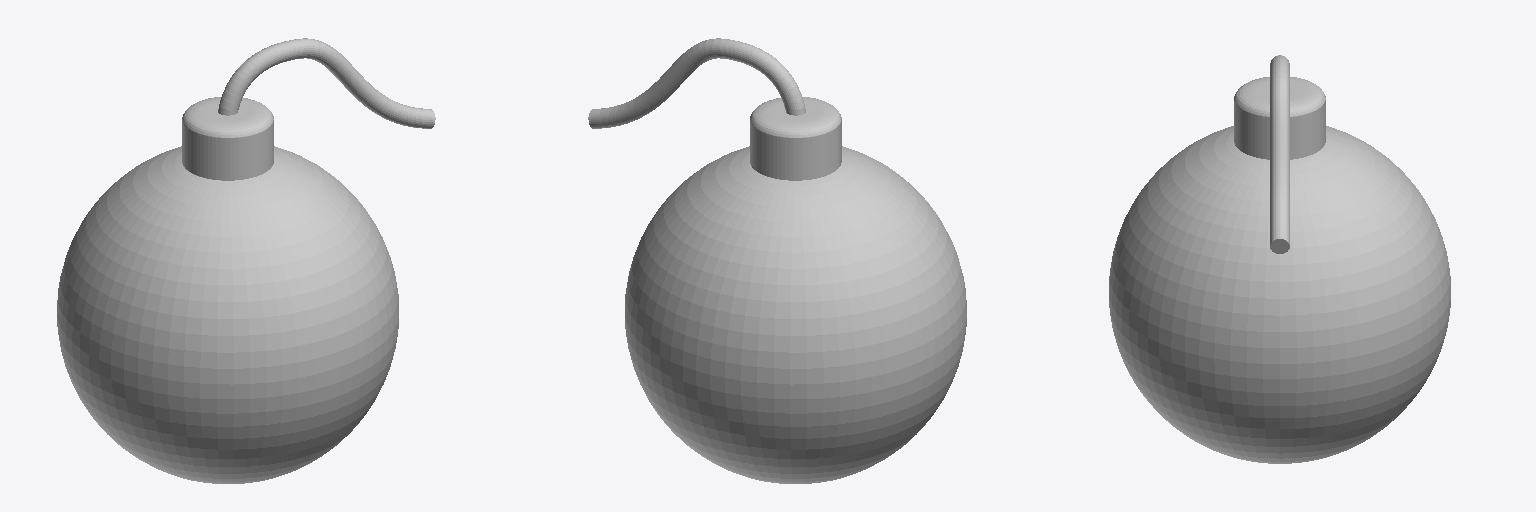
Rendered from bomb_ST6TPHC.obj.
3 renders of one model, left to right at view 1: azimuth 30°, elevation 25°; view 2: azimuth 150°, elevation 25°; view 3: azimuth 270°, elevation 25°, orthographic.
Parts seen in each view (by area): view 1: bomb, fuse; view 2: bomb, fuse; view 3: bomb, fuse.
Boxes of the visible parts, <box> form: bomb: <box>57,97,398,483</box>; fuse: <box>218,38,435,128</box>; bomb: <box>625,97,966,483</box>; fuse: <box>588,38,805,128</box>; bomb: <box>1109,77,1450,463</box>; fuse: <box>1270,55,1289,253</box>.
Size of the model in its own units: 20.61 by 23.07 by 17.35.